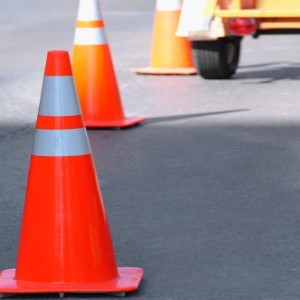traffic cone: (1, 50, 144, 291), (49, 1, 145, 127), (131, 1, 208, 74)
